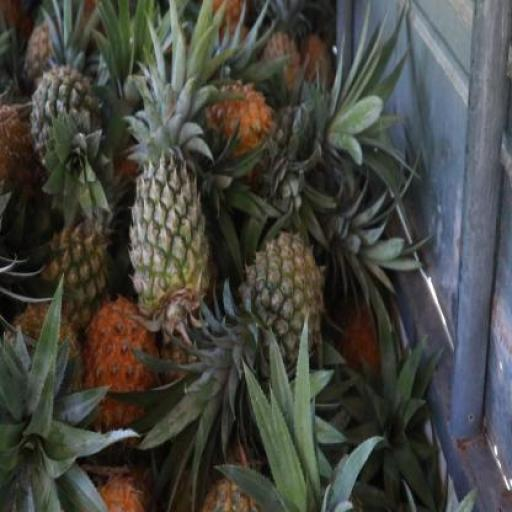Pineapple - v8 v1: (80, 289, 155, 438), (198, 79, 278, 161)
